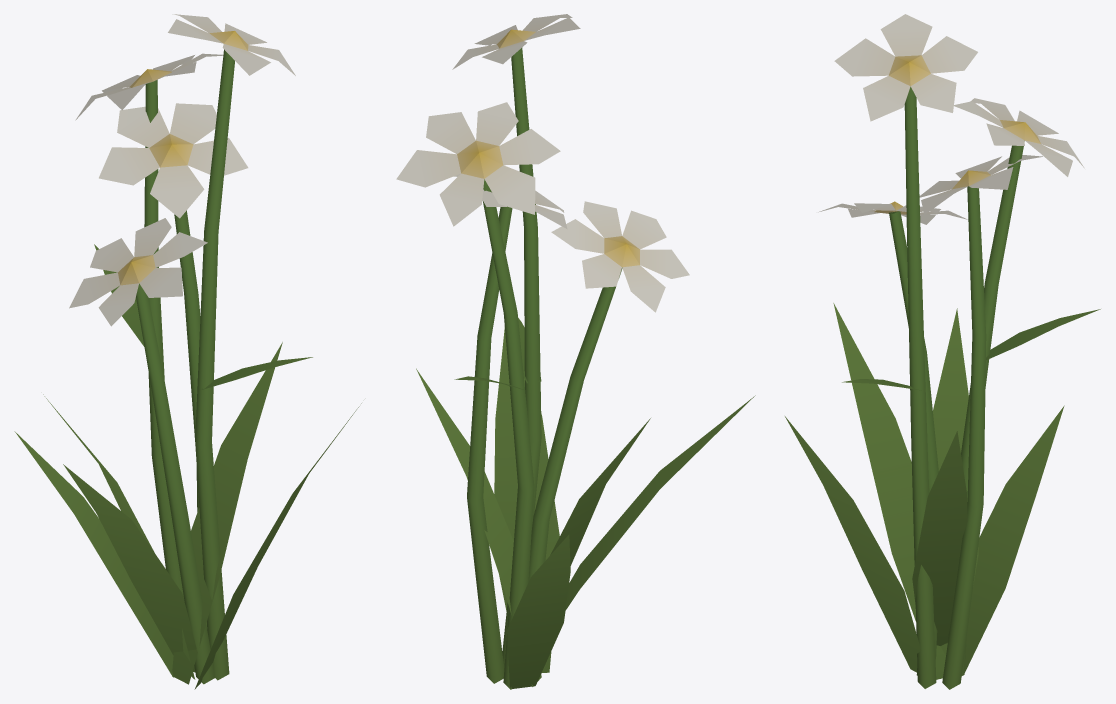
Rendered from flower_white_A.glb.
3 views of the same model, side by side, from view 1: azimuth 30°, elevation 25°; view 2: azimuth 150°, elevation 25°; view 3: azimuth 270°, elevation 25° (orthographic). The views are drawn at different scales.
Parts seen in each view (by area): view 1: flower_white_A; view 2: flower_white_A; view 3: flower_white_A.
Part boxes in pixels (<box>): flower_white_A: <box>14,14,361,689</box>; flower_white_A: <box>396,14,755,689</box>; flower_white_A: <box>785,14,1100,689</box>.
Bounding box in the file's own units: 0.1698 × 0.3798 × 0.1706.
